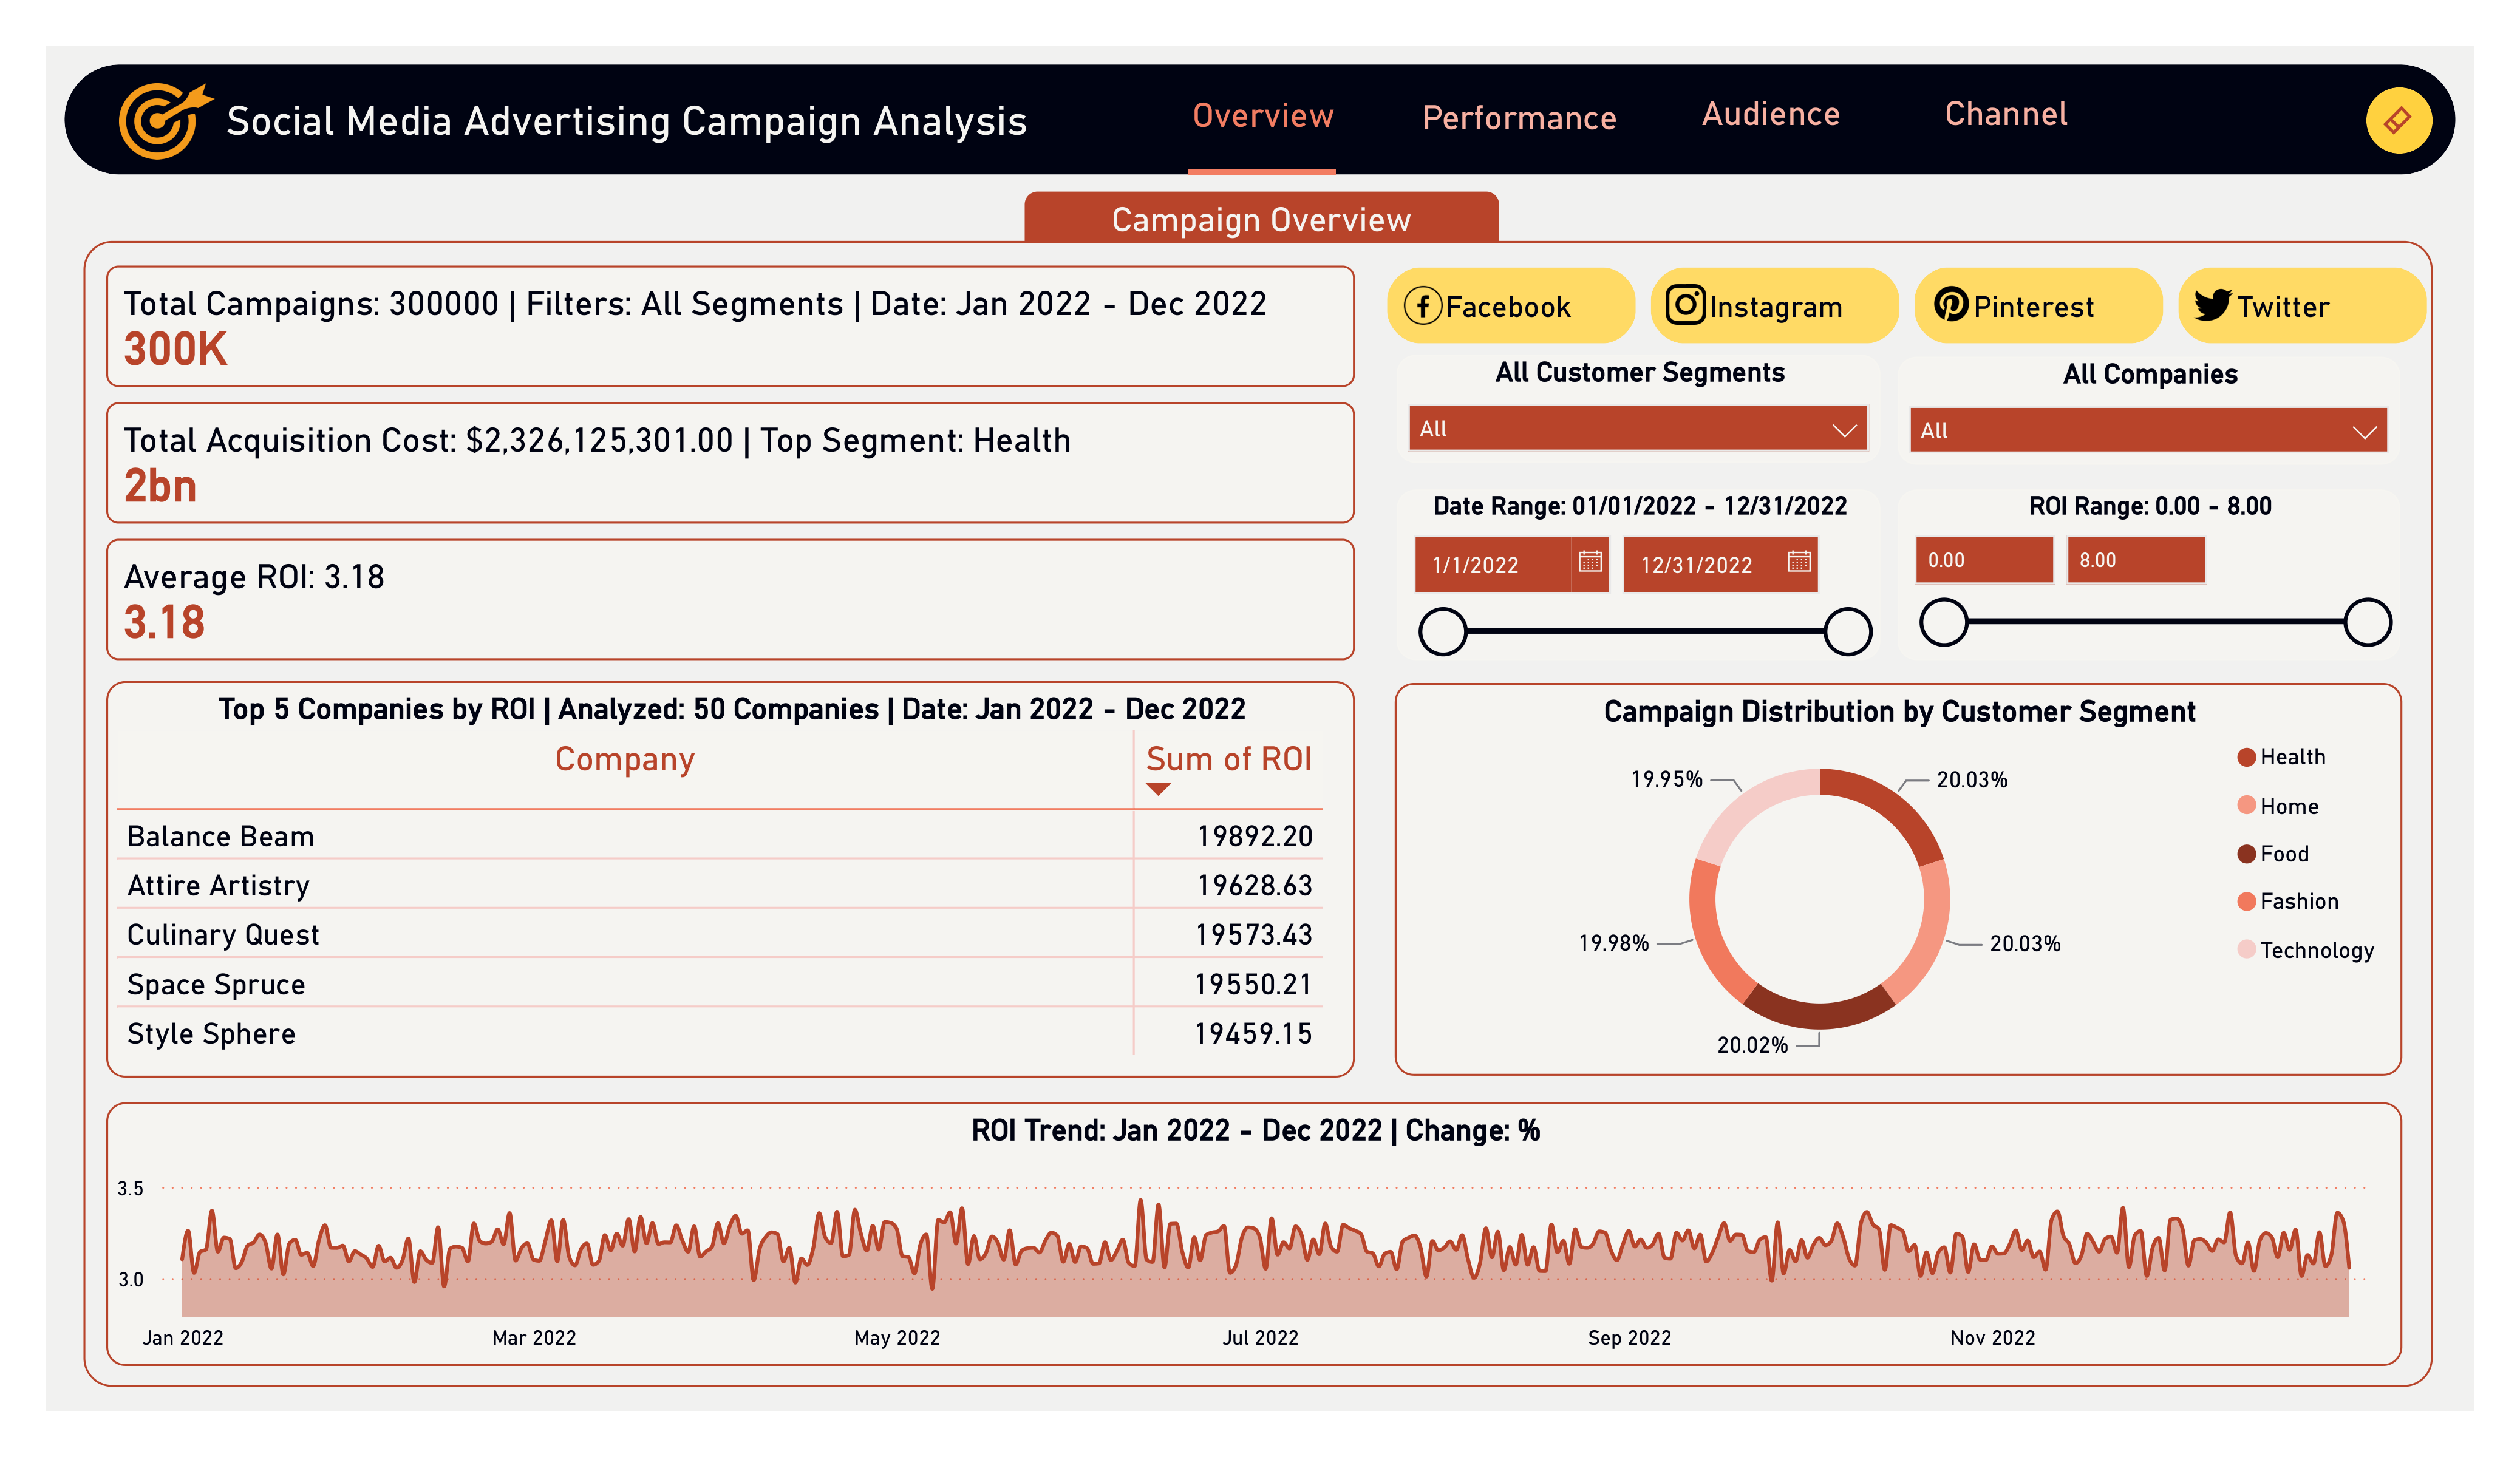

Layout of this report page (visuals, bound fields, positions):
{"tool":"powerbi","page":{"name":"Overview","canvas":[1280,720],"ordinal":0},"visuals":[{"type":"shape","box":[0,0,1280,78.3],"z":0},{"type":"textbox","box":[95,26.7,460,40],"z":1000},{"type":"actionButton","box":[1223.3,21.7,35,35],"z":2000},{"type":"actionButton","box":[571.7,16.7,140,38.3],"z":3000},{"type":"shape","box":[591.7,55,98.3,23.3],"z":4000},{"type":"actionButton","box":[707.2,16.7,140,40],"z":5000},{"type":"actionButton","box":[842.8,16.7,133.3,36.7],"z":6000},{"type":"actionButton","box":[971.7,16.7,123.3,36.7],"z":7000},{"type":"image","box":[20,10,88.3,60],"z":8000},{"type":"shape","box":[20,103.3,1238.3,603.3],"z":9000},{"type":"shape","box":[505.6,66.7,270,47.8],"z":10000},{"type":"cardVisual","fields":{"Data":["All measures.Total_Campaigns","All measures.Total_Acquisition_Cost","All measures.Average_ROI"]},"box":[31.8,115.7,657.9,208.2],"z":11000},{"type":"lineChart","fields":{"Category":["Social_Media_Advertising_cleaned.Date"],"Y":["All measures.ROI_Over_Time"]},"box":[31.8,556.7,1210.3,138.8],"z":12000},{"type":"donutChart","fields":{"Y":["All measures.Campaign_Count_By_Segment"],"Category":["Social_Media_Advertising_cleaned.Customer_Segment"]},"box":[711.1,335.6,530.5,207.6],"z":13000},{"type":"tableEx","fields":{"Values":["Social_Media_Advertising_cleaned.Company","Sum(Social_Media_Advertising_cleaned.ROI)"]},"box":[31.8,335.5,657.9,208.2],"z":14000},{"type":"slicer","fields":{"Values":["Social_Media_Advertising_cleaned.Date"]},"box":[712,234,255,90],"z":15000},{"type":"slicer","fields":{"Values":["Social_Media_Advertising_cleaned.Customer_Segment"]},"box":[712,163,255,57],"z":16000},{"type":"advancedSlicerVisual","fields":{"Values":["Social_Media_Advertising_cleaned.Channel_Used"]},"box":[707,117,551,40],"z":17000},{"type":"image","box":[705,110,42,54],"z":18000},{"type":"image","box":[844,116,41,41],"z":19000},{"type":"image","box":[984,114,41,42],"z":20000},{"type":"image","box":[1122,116,41,41],"z":21000},{"type":"slicer","fields":{"Values":["Social_Media_Advertising_cleaned.Company"]},"box":[976,164,265,57],"z":22000},{"type":"slicer","fields":{"Values":["Social_Media_Advertising_cleaned.ROI"]},"box":[976,234,265,90],"z":23000}]}

Visuals, with their boxes on the page's 1280x720 design canvas (x1, y1, x2, y2). These are canvas units, not pixel positions in the 2520x1457 screenshot, which may show the page scaled, cropped or inside an application window:
shape: 0:0:1280:78
textbox: 95:27:555:67
actionButton: 1223:22:1258:57
actionButton: 572:17:712:55
shape: 592:55:690:78
actionButton: 707:17:847:57
actionButton: 843:17:976:53
actionButton: 972:17:1095:53
image: 20:10:108:70
shape: 20:103:1258:707
shape: 506:67:776:114
cardVisual - All measures.Total_Campaigns x All measures.Total_Acquisition_Cost: 32:116:690:324
lineChart - Social_Media_Advertising_cleaned.Date x All measures.ROI_Over_Time: 32:557:1242:696
donutChart - All measures.Campaign_Count_By_Segment x Social_Media_Advertising_cleaned.Customer_Segment: 711:336:1242:543
tableEx - Social_Media_Advertising_cleaned.Company x Sum(Social_Media_Advertising_cleaned.ROI): 32:336:690:544
slicer - Social_Media_Advertising_cleaned.Date: 712:234:967:324
slicer - Social_Media_Advertising_cleaned.Customer_Segment: 712:163:967:220
advancedSlicerVisual - Social_Media_Advertising_cleaned.Channel_Used: 707:117:1258:157
image: 705:110:747:164
image: 844:116:885:157
image: 984:114:1025:156
image: 1122:116:1163:157
slicer - Social_Media_Advertising_cleaned.Company: 976:164:1241:221
slicer - Social_Media_Advertising_cleaned.ROI: 976:234:1241:324
